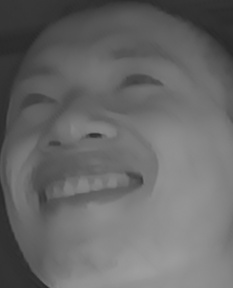eye: (116, 64, 166, 98), (13, 85, 60, 117)
mouth: (28, 163, 142, 214)
